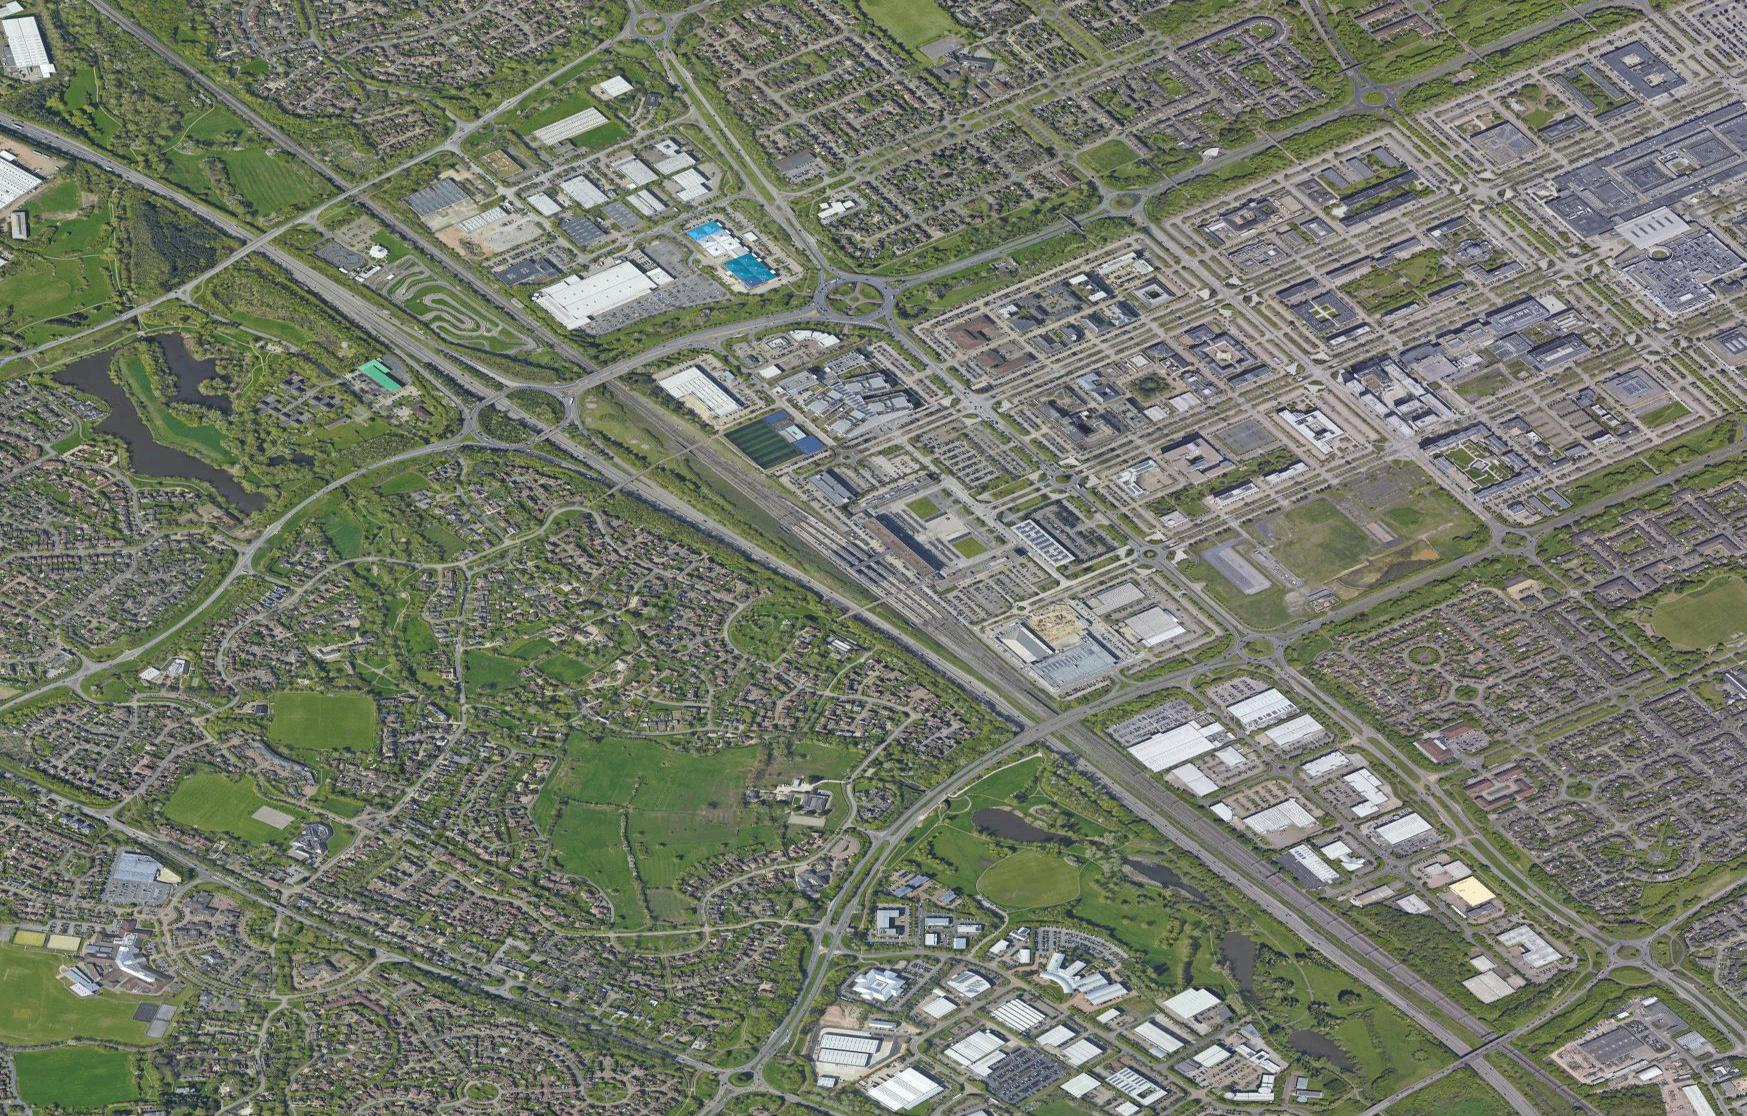bridge: (1034, 708, 1072, 735), (1461, 1032, 1499, 1059), (239, 227, 278, 254), (476, 383, 514, 410), (530, 419, 568, 446)
industrial: (814, 916, 1284, 1116), (438, 97, 763, 336), (1163, 689, 1393, 874)
motorway: (455, 369, 660, 499), (284, 255, 477, 389), (1383, 1003, 1531, 1116), (215, 485, 320, 601), (598, 306, 758, 381), (764, 260, 933, 330), (150, 175, 284, 260), (810, 832, 903, 953), (924, 213, 1086, 282), (1086, 153, 1247, 222), (317, 427, 467, 497), (3, 110, 152, 180), (1247, 78, 1384, 152), (1066, 758, 1180, 838), (1173, 836, 1287, 916), (1275, 916, 1389, 996), (893, 749, 1000, 833), (880, 624, 992, 699), (643, 502, 772, 567), (767, 559, 895, 624), (767, 949, 837, 1064), (115, 594, 215, 669), (996, 696, 1105, 755), (1104, 657, 1230, 705)
train_station: (783, 494, 938, 620)
